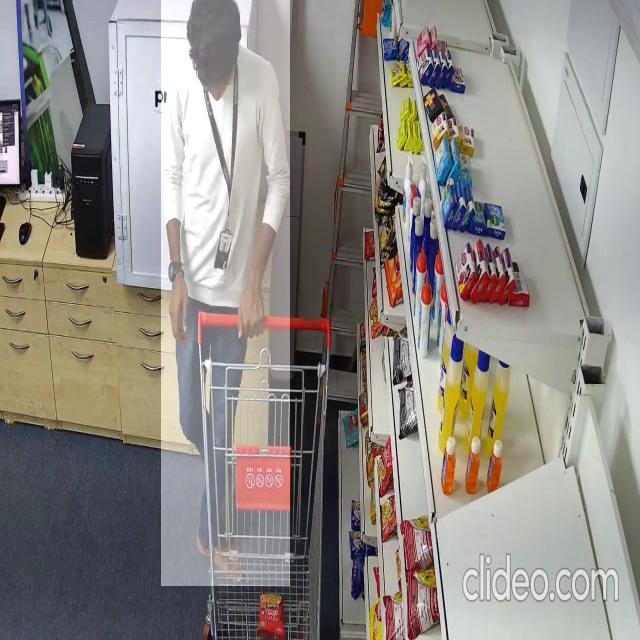normal: (161, 0, 290, 586)
